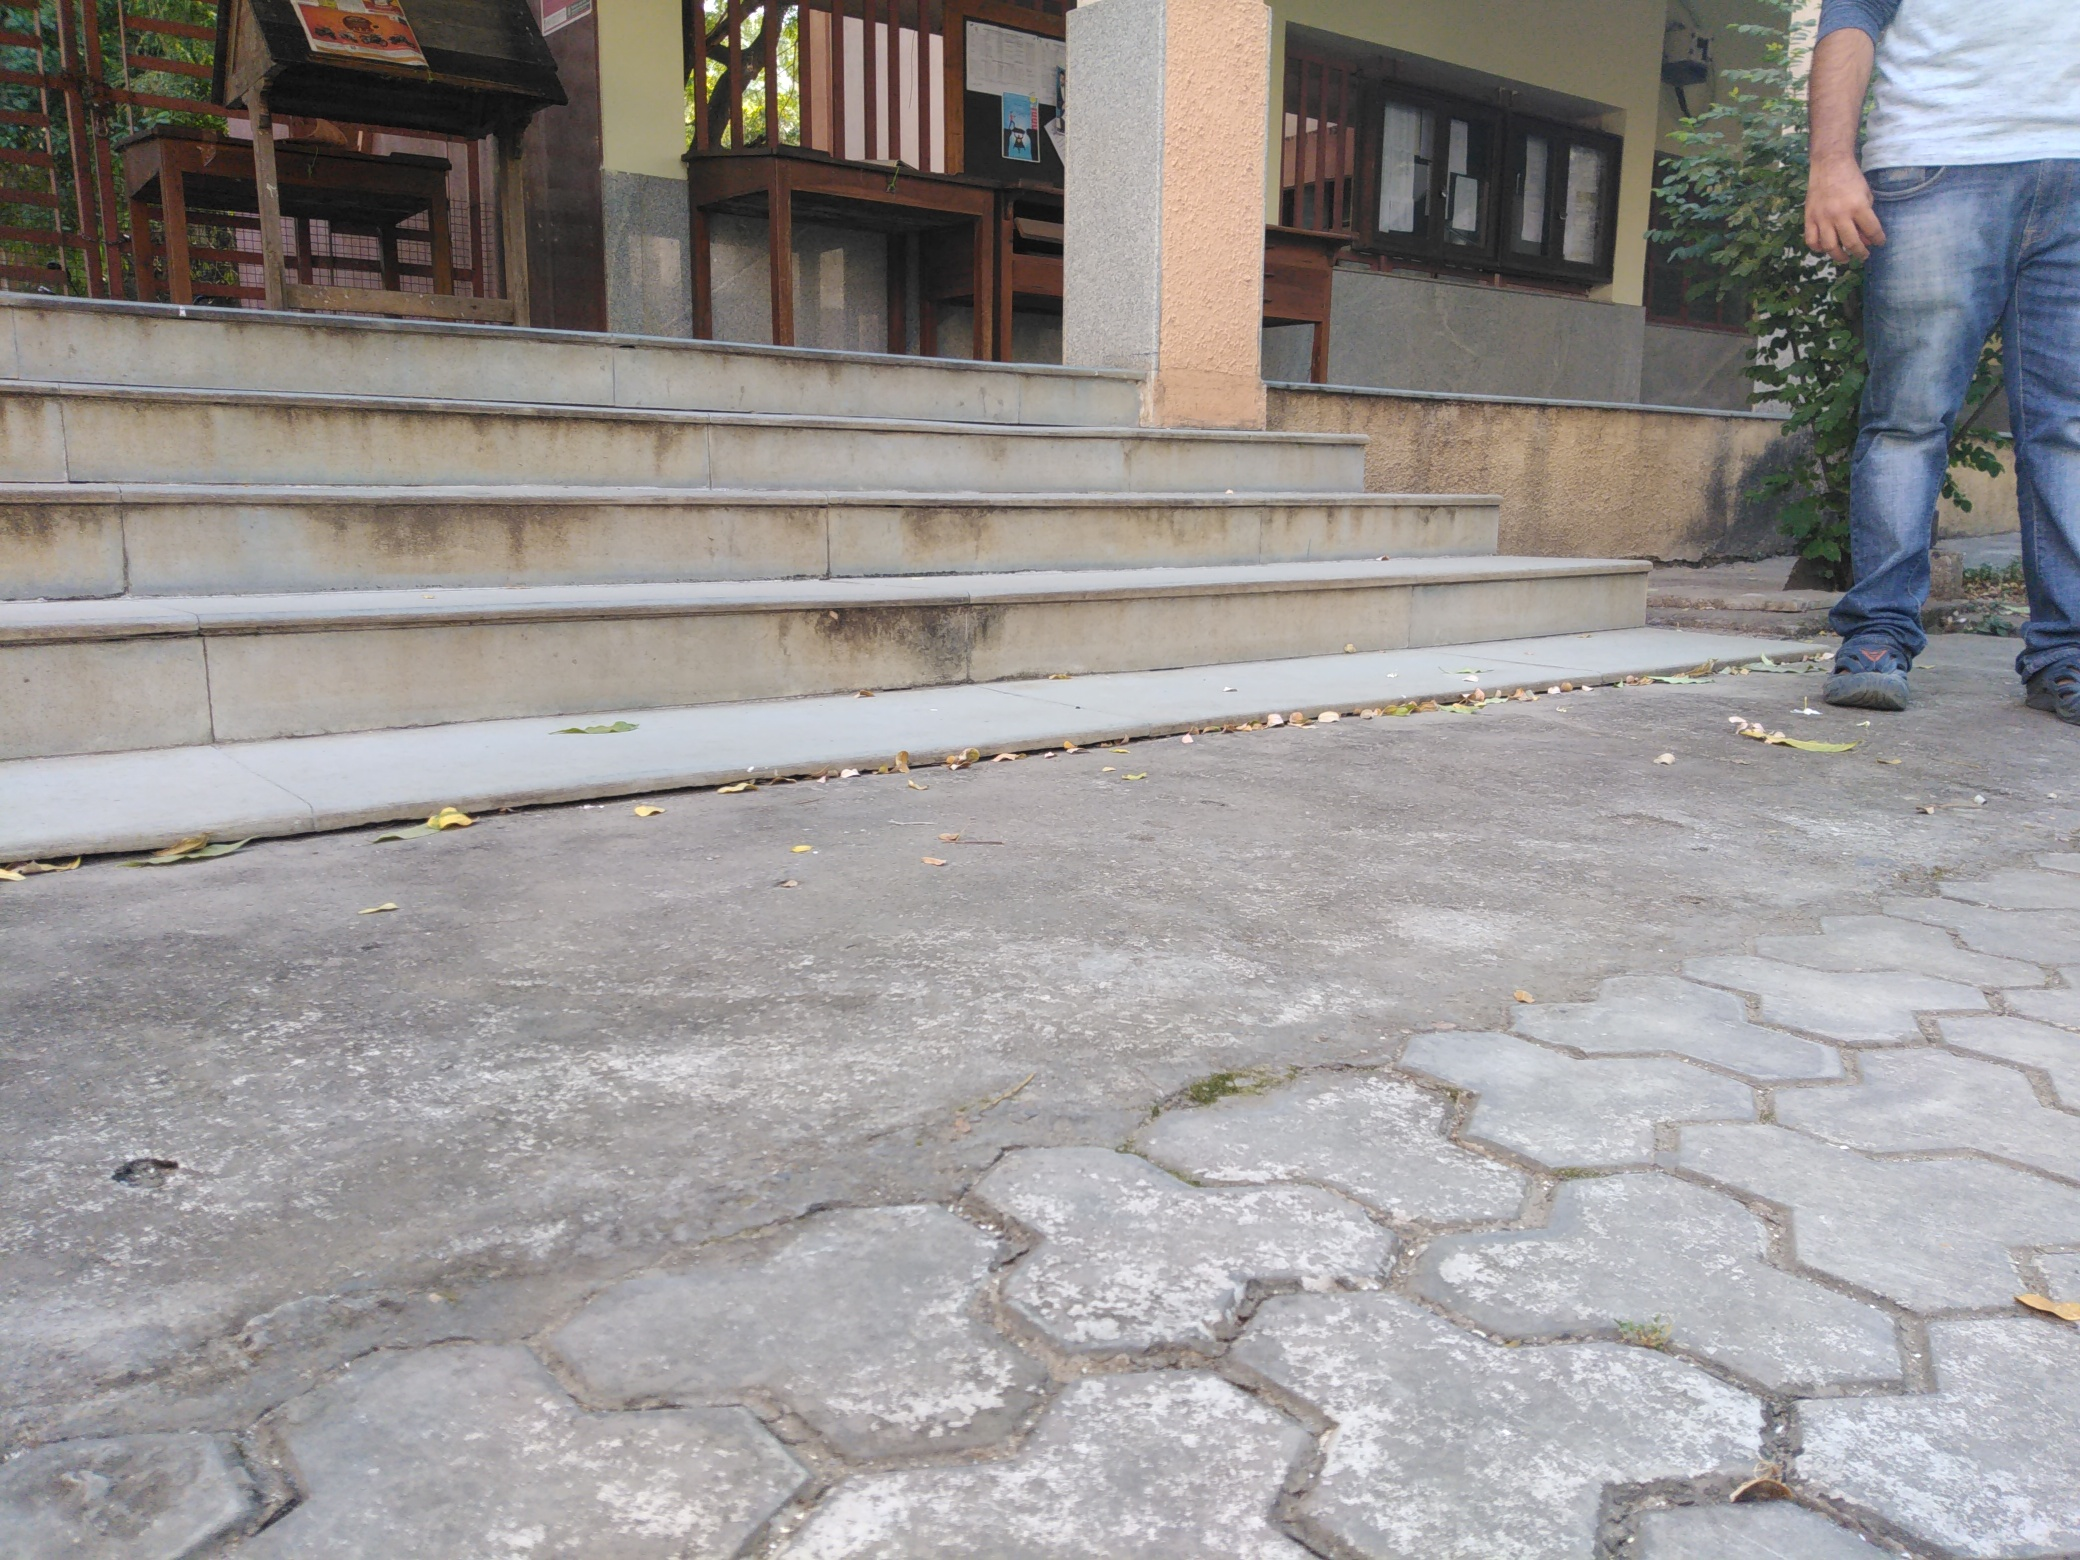stairs_up: (2, 274, 1558, 711)
